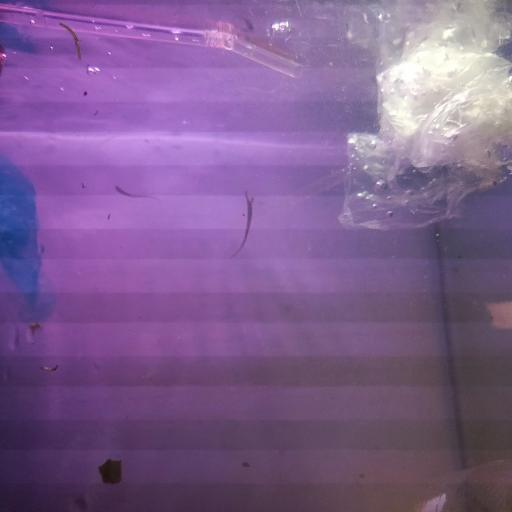plastic_bag: (344, 36, 512, 238), (2, 157, 61, 327)
plastic_straw: (0, 0, 307, 82)
